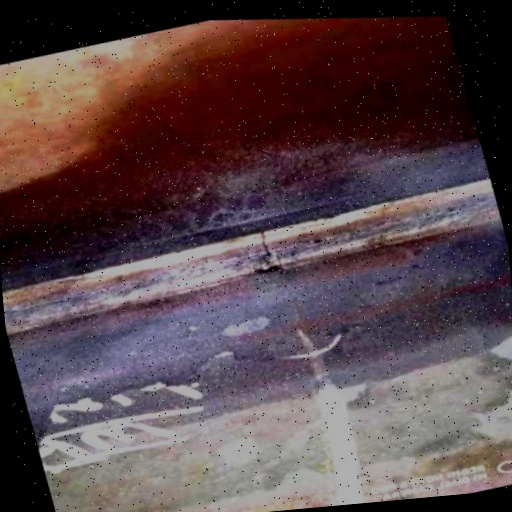crack: (252, 226, 278, 264)
